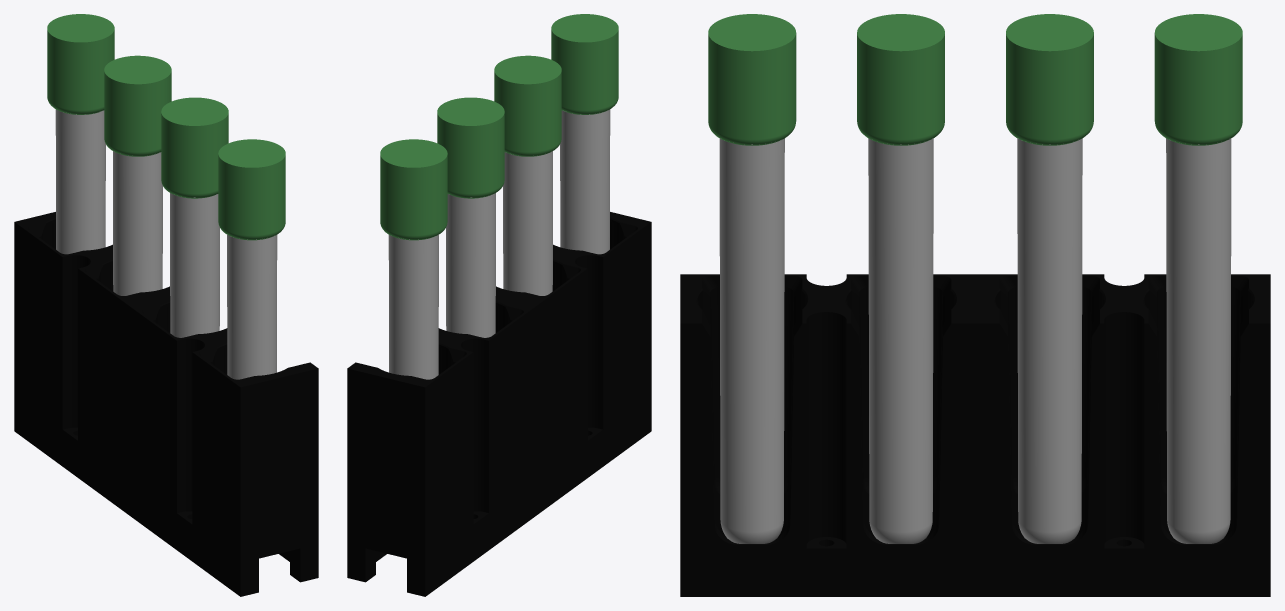
The picture shows the model from 3 angles, left to right: view 1: azimuth 30°, elevation 25°; view 2: azimuth 150°, elevation 25°; view 3: azimuth 270°, elevation 25°; orthographic projection. The views are drawn at different scales.
Visible parts, largest first — view 1: Frame_body_1_0, Frame_body_1_0_node; view 2: Frame_body_1_0, Frame_body_1_0_node; view 3: Frame_body_1_0, Frame_body_1_0_node.
Boxes of the visible parts, bbox=[...] form: Frame_body_1_0: bbox=[14, 14, 318, 596]; Frame_body_1_0_node: bbox=[55, 109, 277, 379]; Frame_body_1_0: bbox=[347, 14, 651, 596]; Frame_body_1_0_node: bbox=[388, 109, 610, 379]; Frame_body_1_0: bbox=[680, 14, 1270, 596]; Frame_body_1_0_node: bbox=[719, 133, 1231, 543].
Size of the model in its own units: 22 by 112 by 111.
